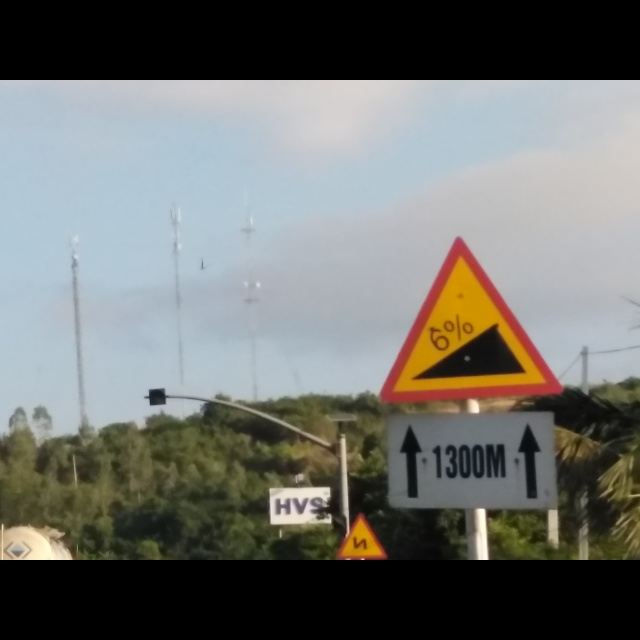Dốc lên nguy hiểm: (378, 235, 563, 406)
Ngoặt nguy hiểm liên tiếp bên phải: (334, 510, 392, 557)
